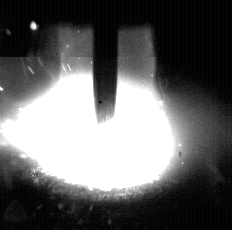arame: (95, 0, 117, 124)
poca: (10, 0, 174, 230)
